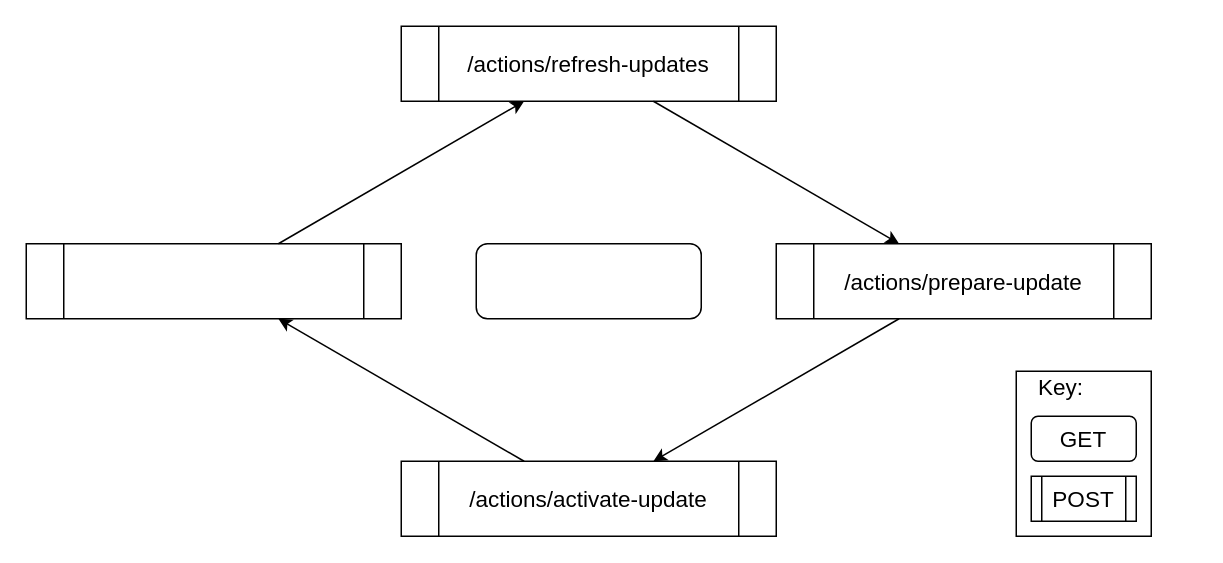
The diagram is 1223 pixels wide and 563 high, and some of its shapes have lost their labels. The centre of each missing label's shape, as x and y in pixels:
/actions/reboot: pixel 213 280
/updates/status: pixel 588 280
